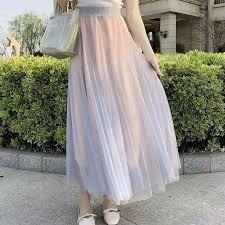skirt: (58, 14, 181, 208)
